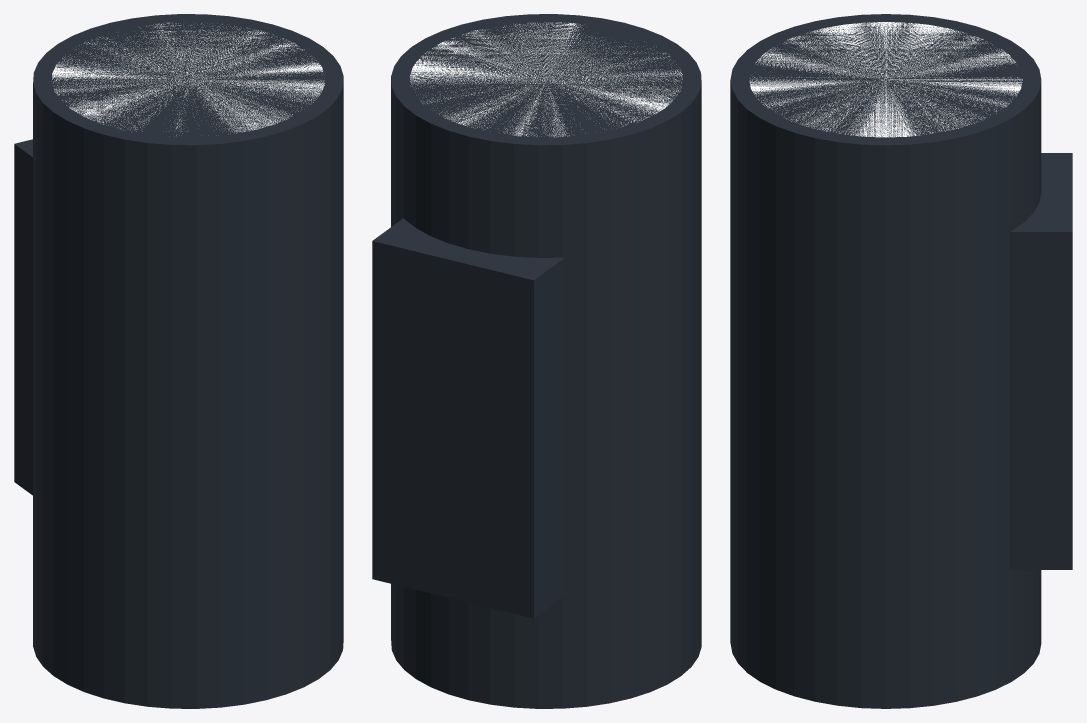
The model's file is 09_outdoor_up_down.glb.
3 views of the same model, side by side, from view 1: azimuth 30°, elevation 25°; view 2: azimuth 150°, elevation 25°; view 3: azimuth 270°, elevation 25° (orthographic).
Bounding box in the file's own units: 0.1 × 0.2 × 0.11.
